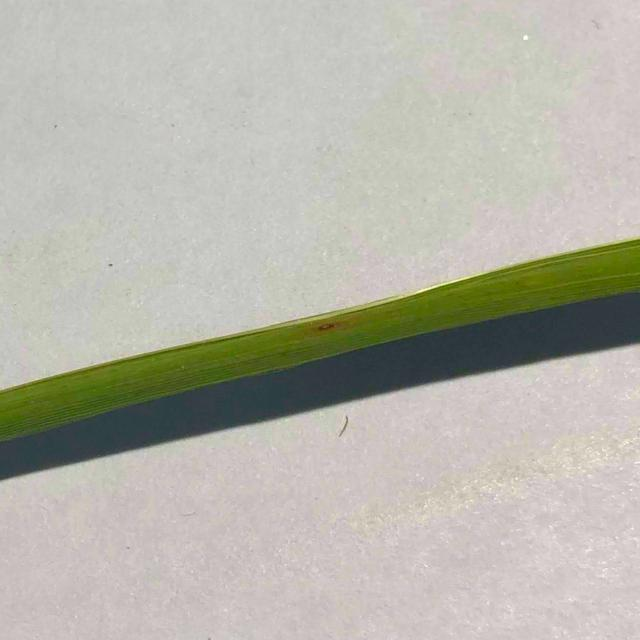Blast: (318, 319, 341, 336)
